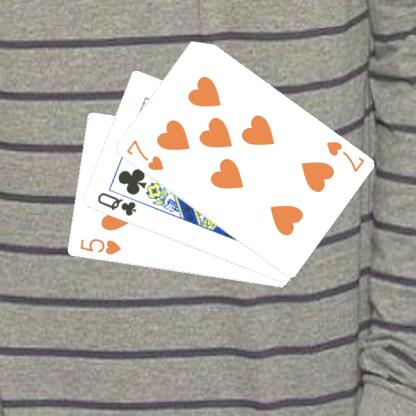5H: (77, 236, 122, 256)
7H: (323, 138, 366, 174), (123, 137, 165, 172)
QC: (94, 190, 138, 218)
